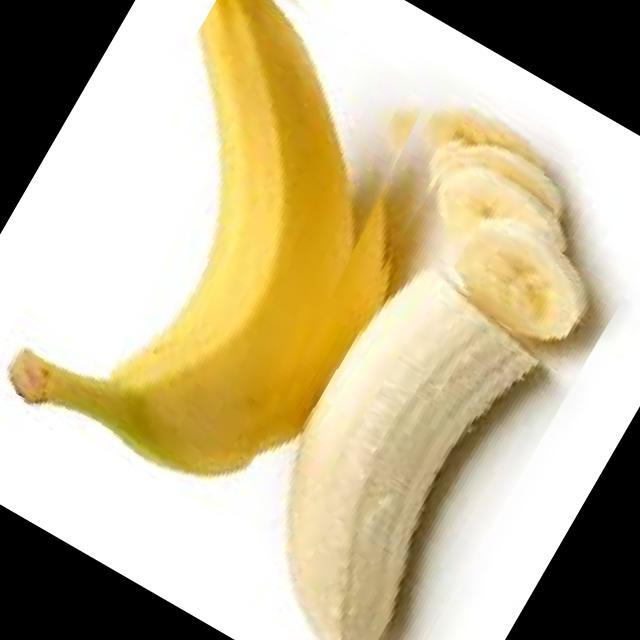Organic: (0, 0, 472, 519), (198, 95, 640, 640)
